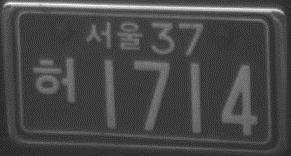1: (184, 60, 210, 135), (98, 56, 123, 131)
3: (146, 21, 175, 55)
4: (215, 62, 261, 140)
7: (130, 56, 172, 133), (174, 20, 205, 58)
서울_O: (84, 18, 141, 51)
허: (32, 55, 77, 103)
